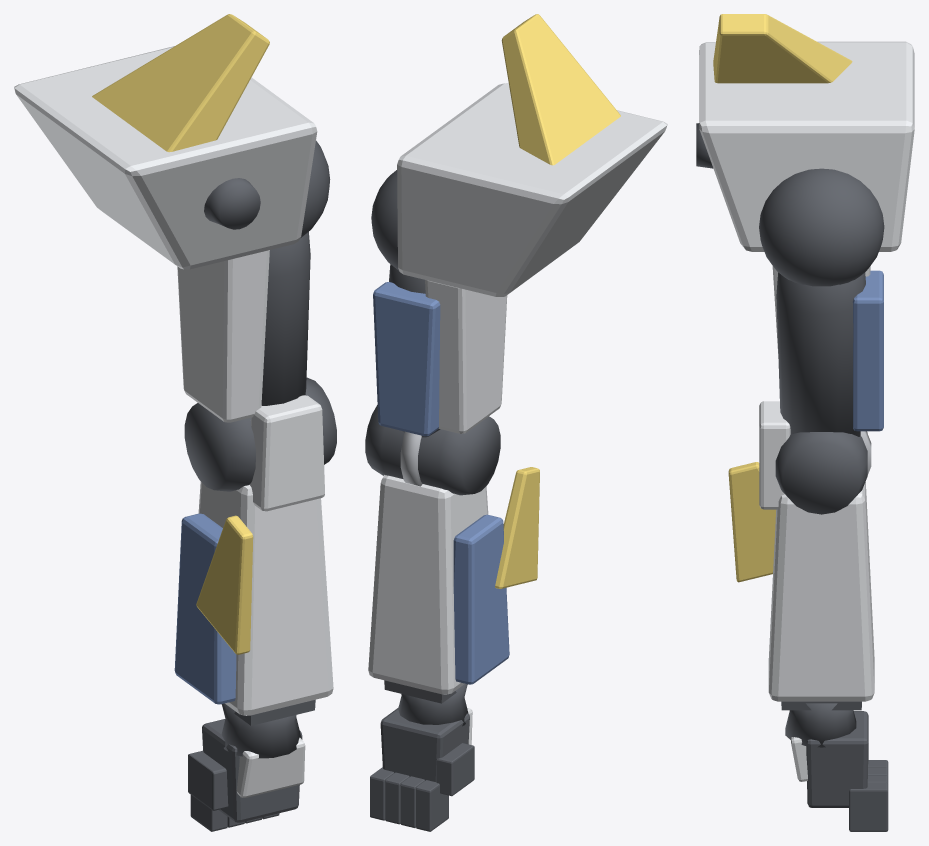
Rendered from arm_fast_l.glb.
The picture shows the model from 3 angles, left to right: view 1: azimuth 30°, elevation 25°; view 2: azimuth 150°, elevation 25°; view 3: azimuth 270°, elevation 25°; orthographic projection. The views are drawn at different scales.
Visible parts, largest first — view 1: pauldron, forearm, pauldron_blade, upper_arm_plate, elbow_guard, forearm_outer, upper_arm, elbow, forearm_fin, palm, wrist, hand_back (+5 smaller); view 2: pauldron, forearm, pauldron_blade, upper_arm_front, upper_arm_plate, forearm_outer, elbow, palm, forearm_fin, shoulder_joint, wrist, thumb (+7 smaller); view 3: pauldron, forearm, shoulder_joint, upper_arm, pauldron_blade, elbow, upper_arm_front, palm, forearm_fin, elbow_guard, wrist, finger.003 (+3 smaller).
Part boxes in pixels (left/top/right/bottom): pauldron: left=14, top=46, right=317, bottom=269; forearm: left=198, top=481, right=333, bottom=715; pauldron_blade: left=92, top=14, right=269, bottom=152; upper_arm_plate: left=177, top=250, right=269, bottom=422; elbow_guard: left=249, top=395, right=324, bottom=511; forearm_outer: left=174, top=513, right=236, bottom=704; upper_arm: left=261, top=232, right=310, bottom=405; elbow: left=184, top=377, right=336, bottom=491; forearm_fin: left=196, top=515, right=253, bottom=654; palm: left=202, top=719, right=302, bottom=822; wrist: left=221, top=703, right=301, bottom=758; hand_back: left=236, top=737, right=305, bottom=797; pauldron: left=397, top=83, right=667, bottom=296; forearm: left=368, top=475, right=488, bottom=694; pauldron_blade: left=501, top=14, right=620, bottom=165; upper_arm_front: left=373, top=282, right=440, bottom=436; upper_arm_plate: left=425, top=280, right=507, bottom=433; forearm_outer: left=453, top=514, right=509, bottom=684; elbow: left=365, top=405, right=500, bottom=495; palm: left=380, top=708, right=469, bottom=782; forearm_fin: left=495, top=467, right=539, bottom=588; shoulder_joint: left=371, top=170, right=398, bottom=270; wrist: left=398, top=683, right=468, bottom=726; thumb: left=436, top=743, right=474, bottom=796; pauldron: left=699, top=41, right=914, bottom=251; forearm: left=768, top=482, right=874, bottom=701; shoulder_joint: left=759, top=168, right=884, bottom=286; upper_arm: left=776, top=272, right=865, bottom=436; pauldron_blade: left=713, top=14, right=852, bottom=83; elbow: left=775, top=432, right=867, bottom=514; upper_arm_front: left=852, top=270, right=883, bottom=431; palm: left=806, top=711, right=868, bottom=807; forearm_fin: left=728, top=462, right=775, bottom=582; elbow_guard: left=759, top=401, right=790, bottom=509; wrist: left=785, top=703, right=856, bottom=747; finger.003: left=849, top=782, right=888, bottom=831.
Size of the model in its own units: 2.93 by 9.28 by 2.37.
